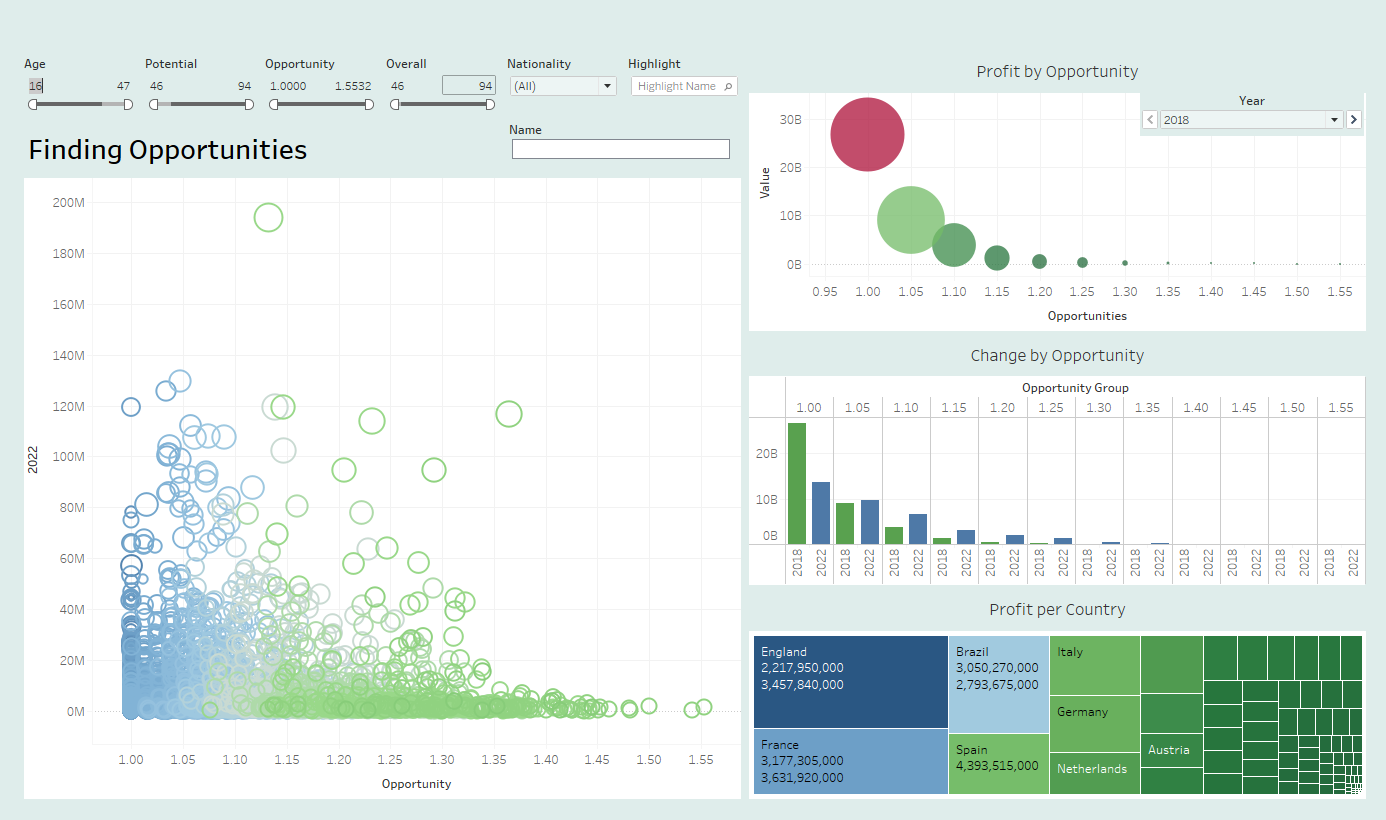

This screenshot's page, from the dashboard's own definition file:
{"tool":"tableau","page":{"name":"Dashboard","canvas":[1366,768],"ordinal":0},"visuals":[{"type":"filter","title":"Finding Opportunities","param":"[federated.0w4lbyq1ur9ub4160477h1f88rcn].[none:Age:qk]","box":[8,8,120.7,71]},{"type":"filter","title":"Finding Opportunities","param":"[federated.0w4lbyq1ur9ub4160477h1f88rcn].[sum:Potential:qk]","box":[128.7,8,120.7,71]},{"type":"filter","title":"Finding Opportunities","param":"[federated.0w4lbyq1ur9ub4160477h1f88rcn].[none:Opportunity:qk]","box":[249.5,8,120.7,71]},{"type":"filter","title":"Finding Opportunities","param":"[federated.0w4lbyq1ur9ub4160477h1f88rcn].[sum:Overall:qk]","box":[370.2,8,120.7,71]},{"type":"filter","title":"Finding Opportunities","param":"[federated.0w4lbyq1ur9ub4160477h1f88rcn].[none:Nationality:nk]","box":[491,8,120.7,71]},{"type":"highlighter","title":"Finding Opportunities","param":"[federated.0w4lbyq1ur9ub4160477h1f88rcn].[none:Name:nk]","box":[611.7,8,120.8,71]},{"type":"worksheet","title":"Profit by Opportunity","mark":"Circle","rows":["Value"],"cols":["Opportunity (Sheet1)"],"box":[732.5,8,625.5,284]},{"type":"currpage","title":"Profit by Opportunity","box":[1128,49,224,44]},{"type":"filter","title":"Finding Opportunities","param":"[federated.0w4lbyq1ur9ub4160477h1f88rcn].[none:Name:nk]","box":[497,78,224,98]},{"type":"worksheet","title":"Finding Opportunities","mark":"Automatic","rows":["2022"],"cols":["Opportunity"],"box":[8,79,724.5,681]},{"type":"worksheet","title":"Change by Opportunity","mark":"Automatic","cols":["Opportunity (bin)"],"box":[732.5,292,625.5,254]},{"type":"worksheet","title":"Profit per Country","mark":"Automatic","box":[732.5,546,625.5,214]}]}

Visuals, with their boxes on the page's 1366x768 design canvas (x1, y1, x2, y2). These are canvas units, not pixel positions in the 1386x820 screenshot, which may show the page scaled, cropped or inside an application window:
"Finding Opportunities" filter: [x1=8, y1=8, x2=129, y2=79]
"Finding Opportunities" filter: [x1=129, y1=8, x2=249, y2=79]
"Finding Opportunities" filter: [x1=250, y1=8, x2=370, y2=79]
"Finding Opportunities" filter: [x1=370, y1=8, x2=491, y2=79]
"Finding Opportunities" filter: [x1=491, y1=8, x2=612, y2=79]
"Finding Opportunities" highlighter: [x1=612, y1=8, x2=732, y2=79]
"Profit by Opportunity" worksheet (Circle marks): [x1=732, y1=8, x2=1358, y2=292]
"Profit by Opportunity" currpage: [x1=1128, y1=49, x2=1352, y2=93]
"Finding Opportunities" filter: [x1=497, y1=78, x2=721, y2=176]
"Finding Opportunities" worksheet: [x1=8, y1=79, x2=732, y2=760]
"Change by Opportunity" worksheet: [x1=732, y1=292, x2=1358, y2=546]
"Profit per Country" worksheet: [x1=732, y1=546, x2=1358, y2=760]
